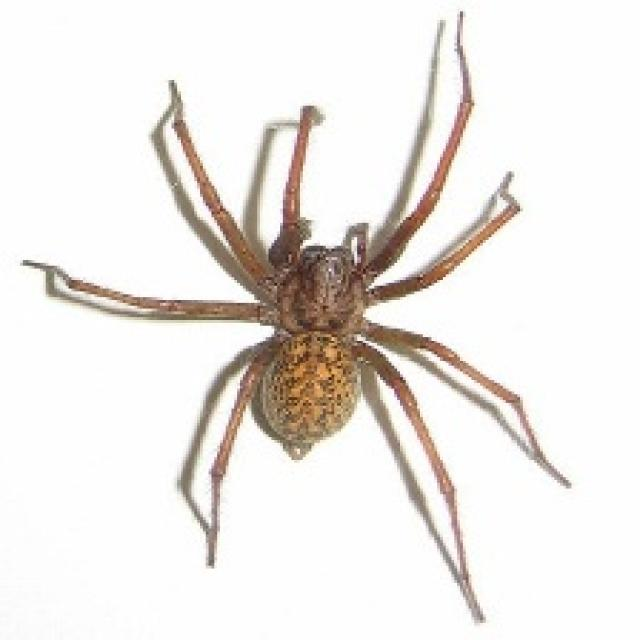Non venomous spider: (128, 156, 531, 516)
